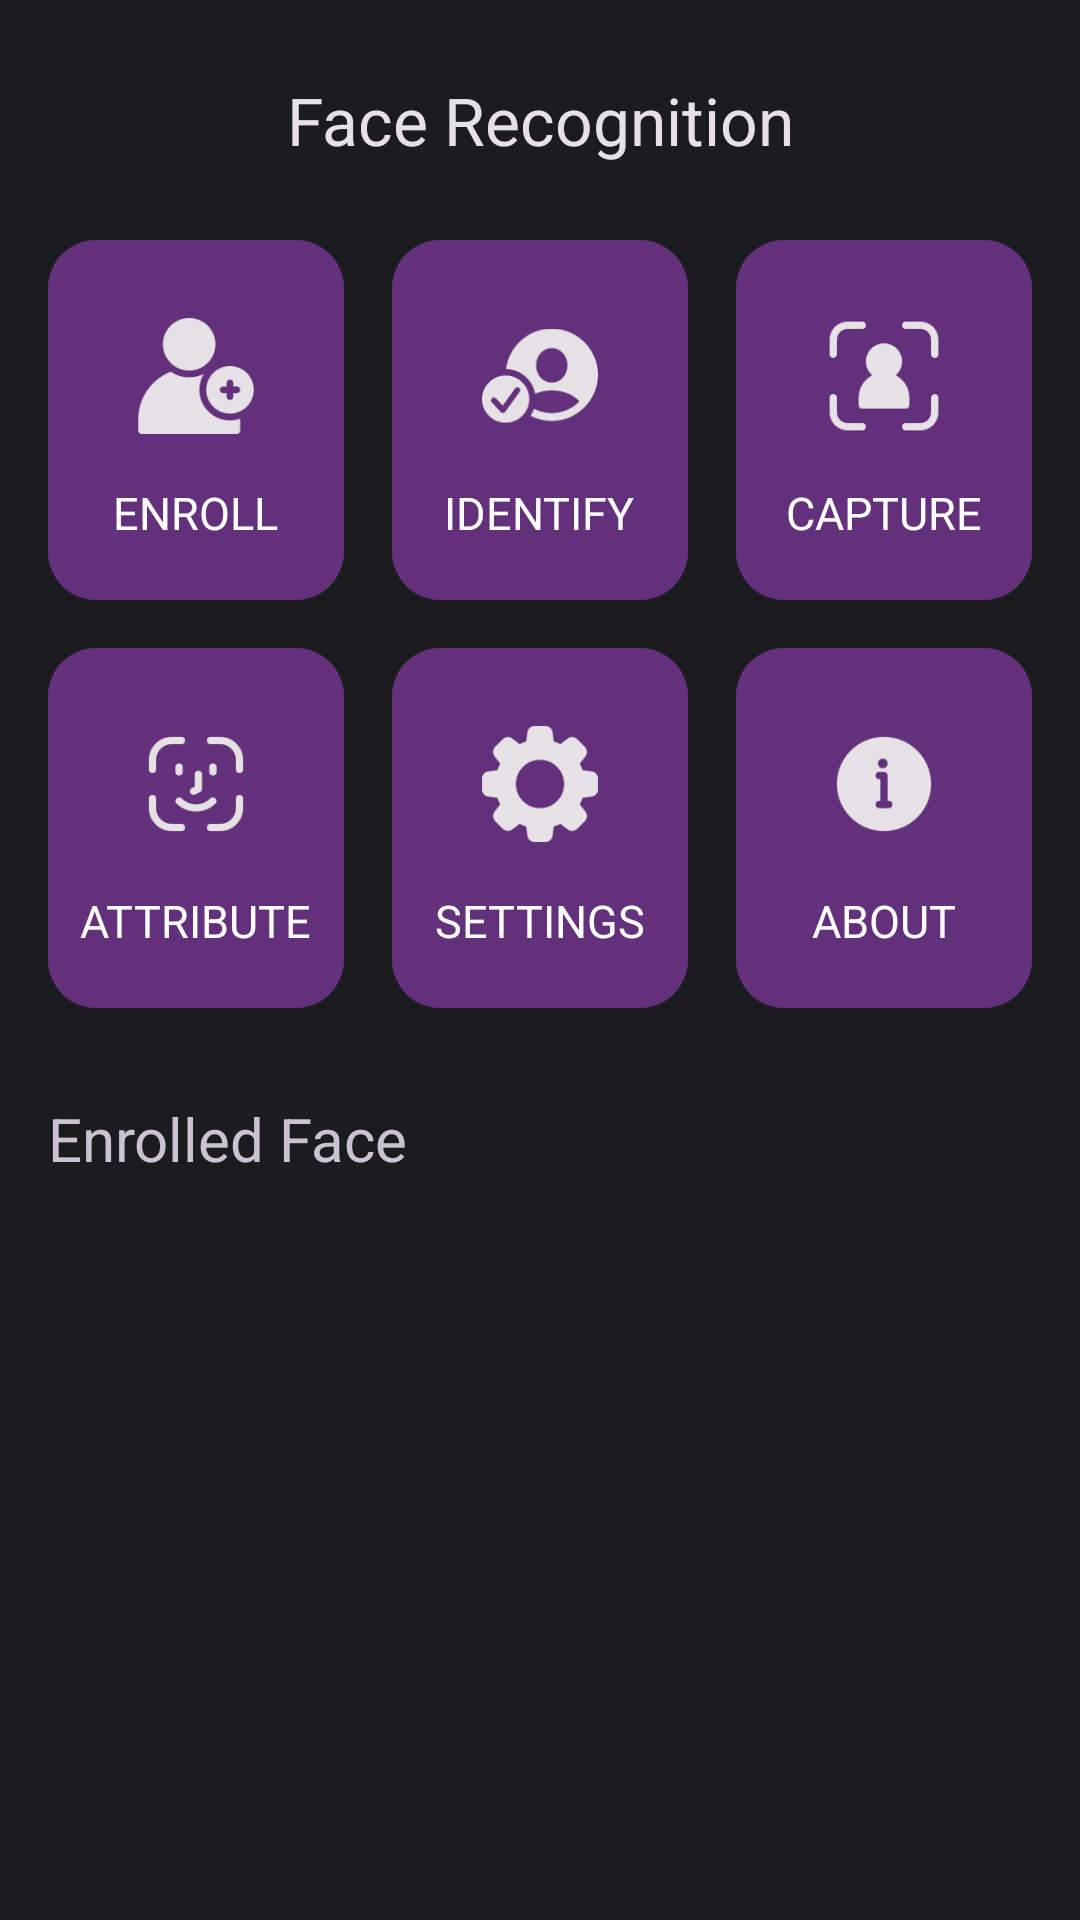

Icon bounding boxes for this 1080 x 1920 phone screenshot, format (x1, y1, x2, y2):
information: (736, 648, 1032, 934)
